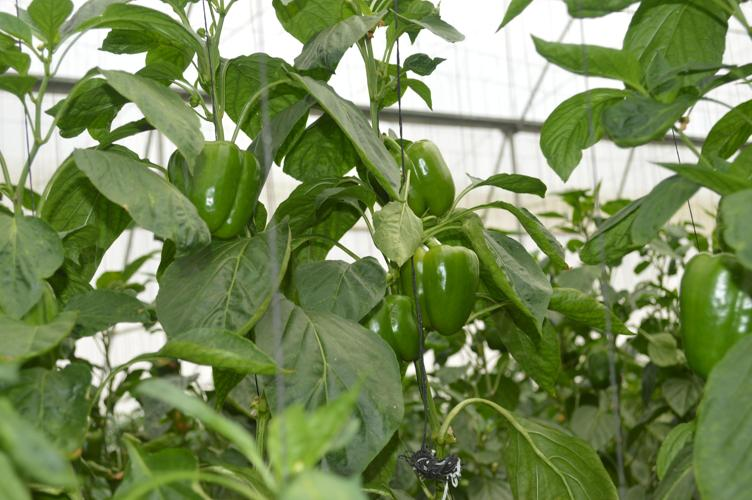BellPepper: (151, 135, 270, 251), (673, 245, 752, 376), (387, 239, 492, 324), (364, 140, 460, 226), (352, 295, 426, 377)
